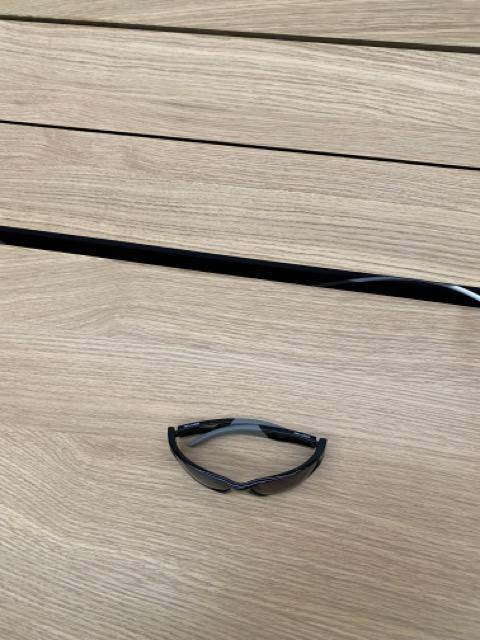Sunglasses: (167, 416, 328, 500)
